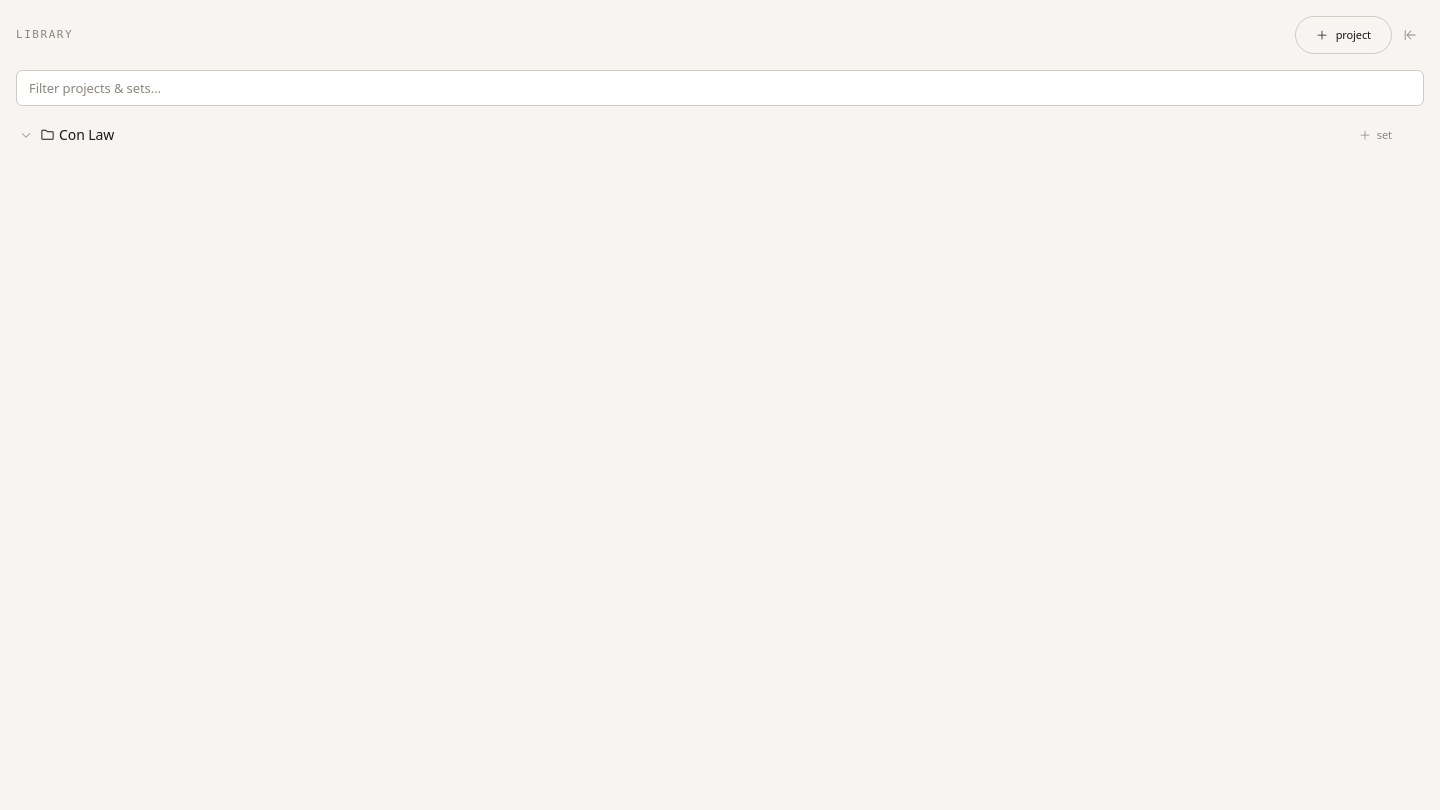
Scenario: blocks creating a project whose name already exists
Click the button "project": (1343, 35) [1295,16,1392,54]
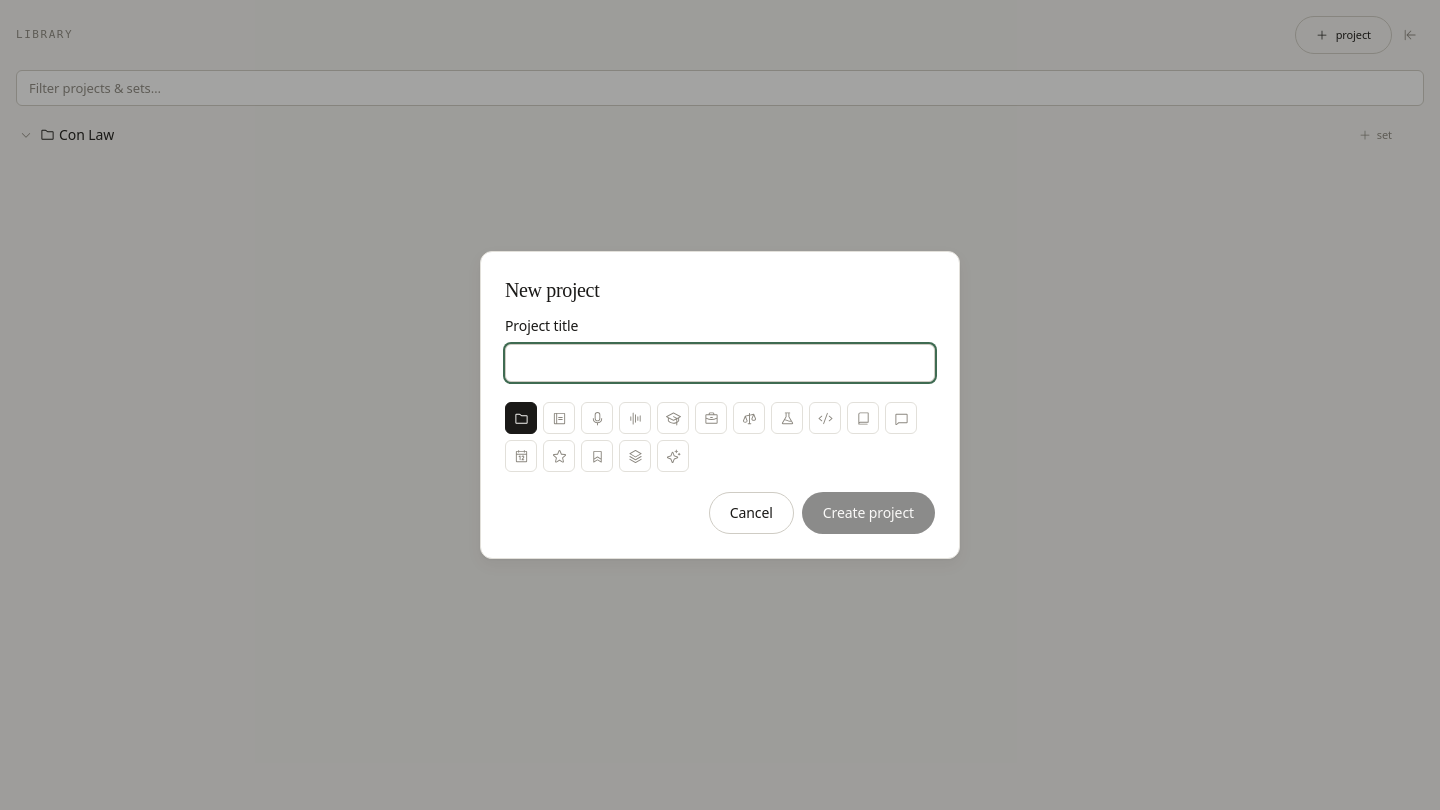
In the field labelled "Project title": (720, 363) [505,344,935,382], type "con law"
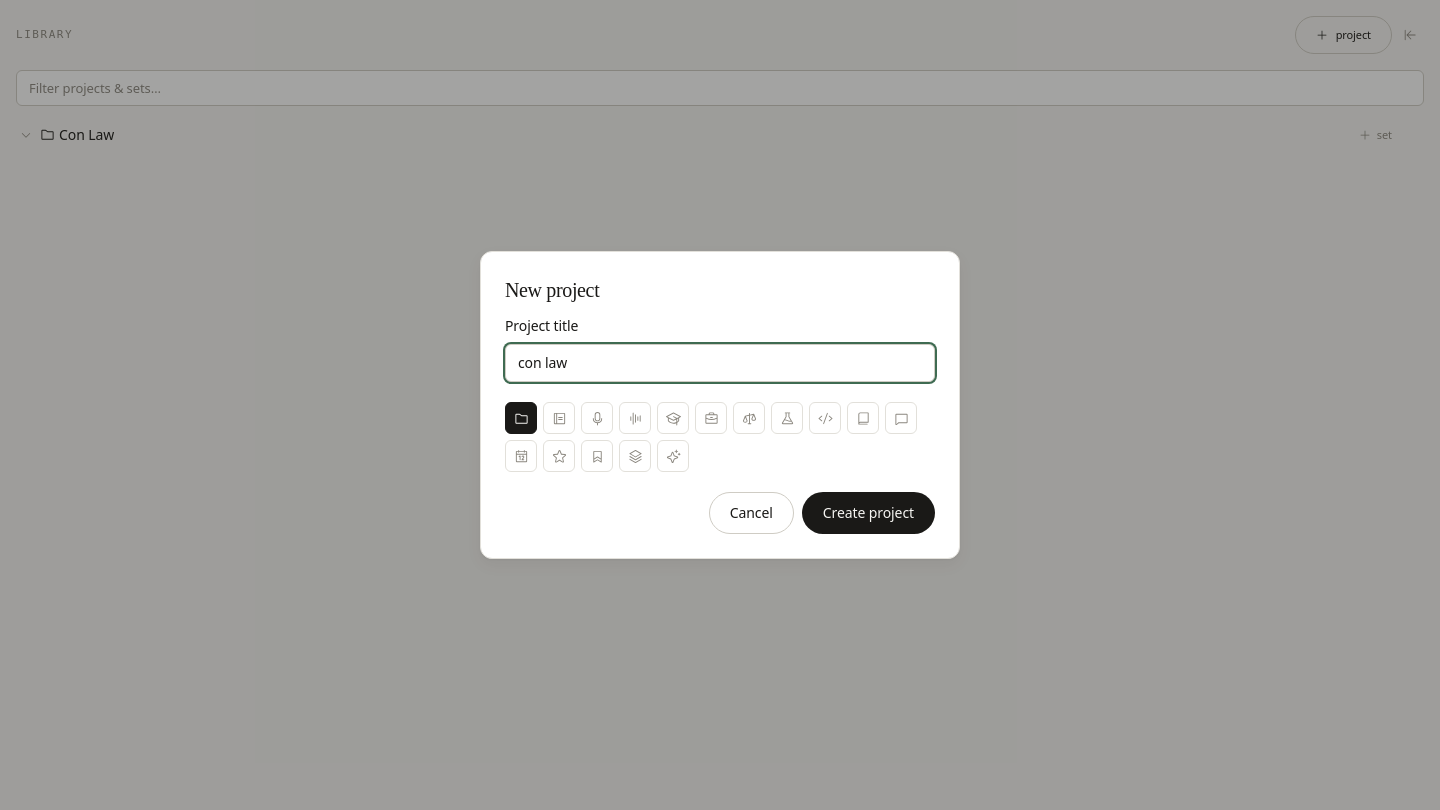
Click the button "Create project": (868, 513) [802,492,935,534]
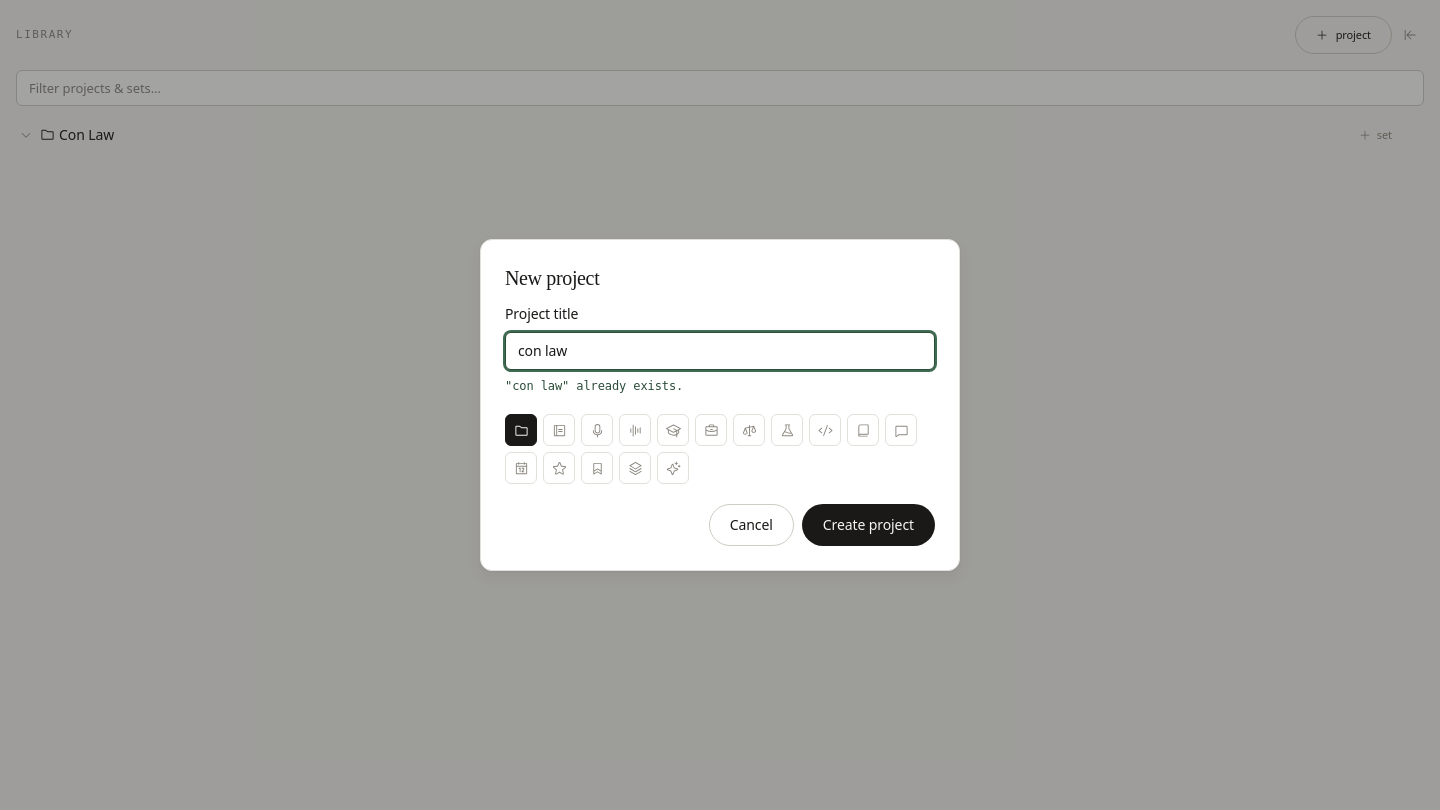
Expected: the text "\"con law\" already exists." is shown, [505,379,683,393]
